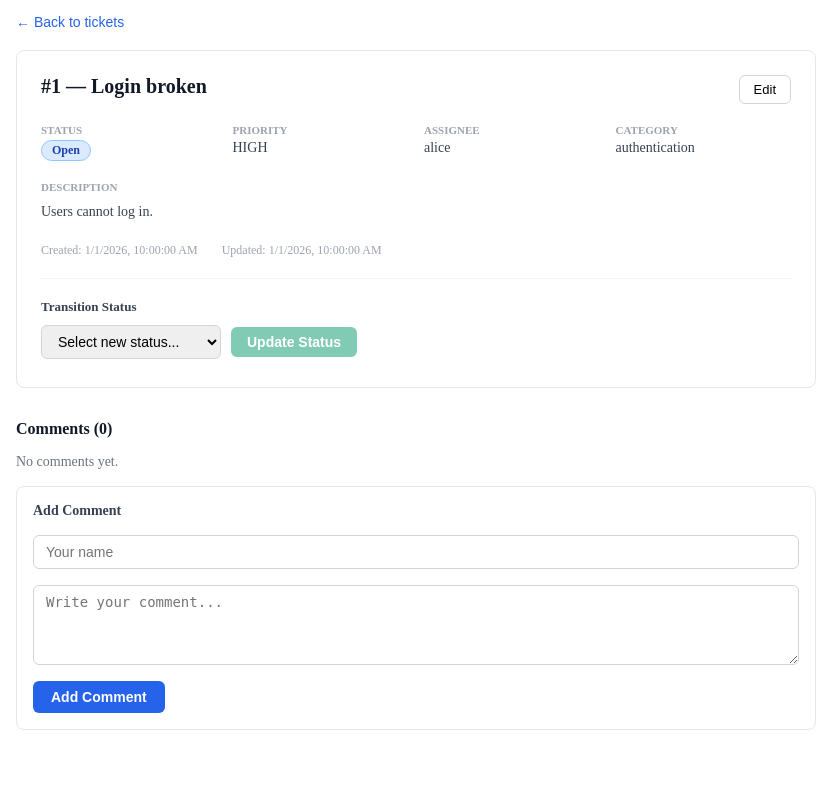
Test: TicketDetail — status transitions › surfaces the backend 409 error message when an invalid transition is somehow submitted
Check: the heading "#1 — Login broken" is shown, box [41,75,207,97]
Step 1. Select "IN PROGRESS" in the dropdown showing "Select new status..." → (131, 342), box [41,325,221,359]
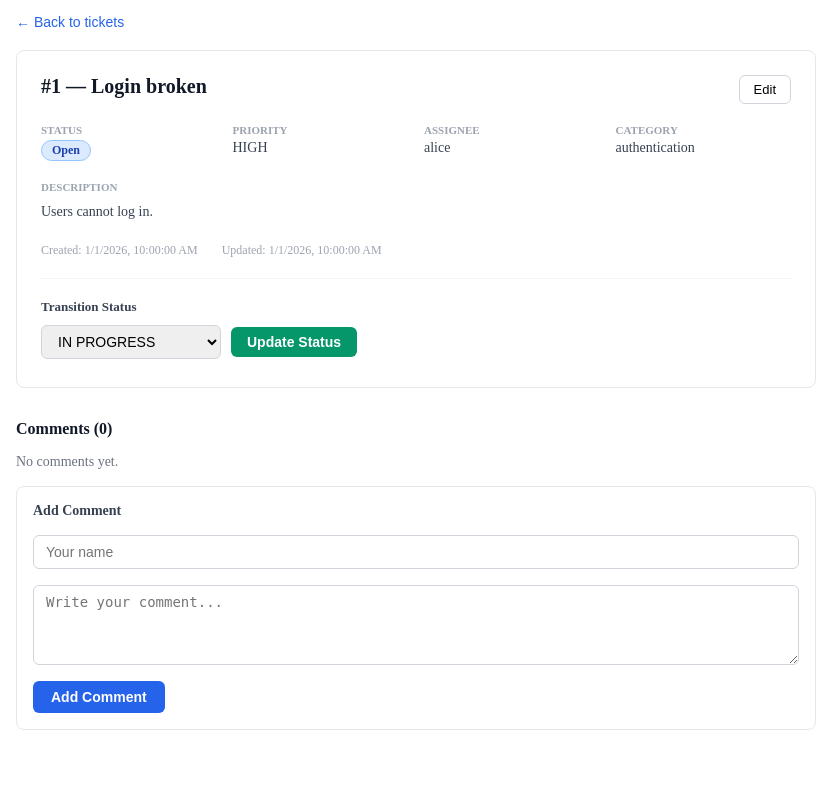
Step 2. Click the button "Update Status" → click(294, 342), box [231,327,357,357]
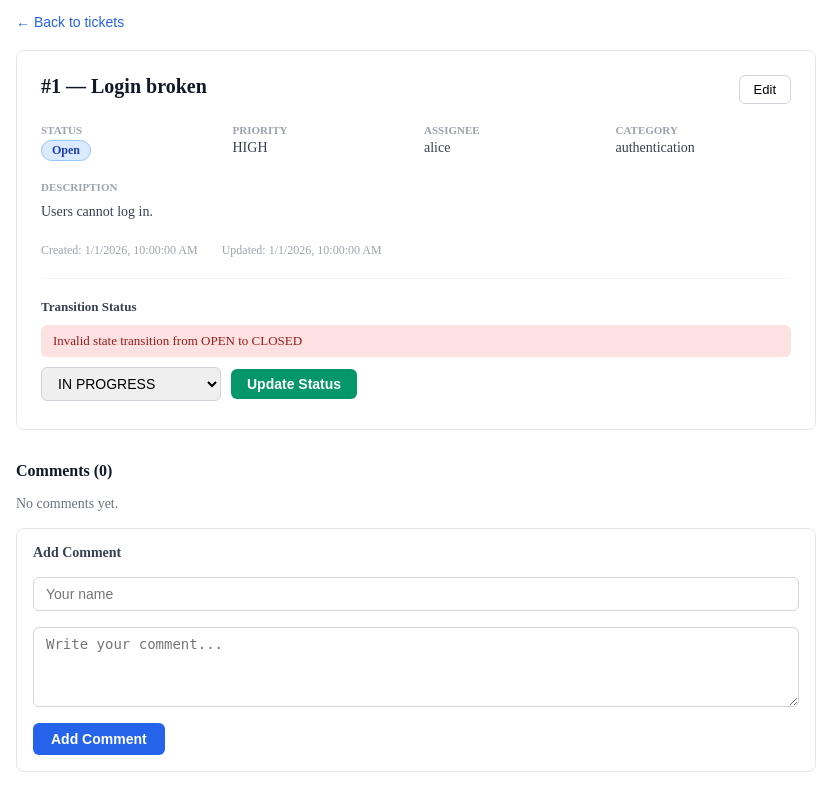
Check: the text "Invalid state transition from OPEN to CLOSED" is shown, box [41,325,791,357]
